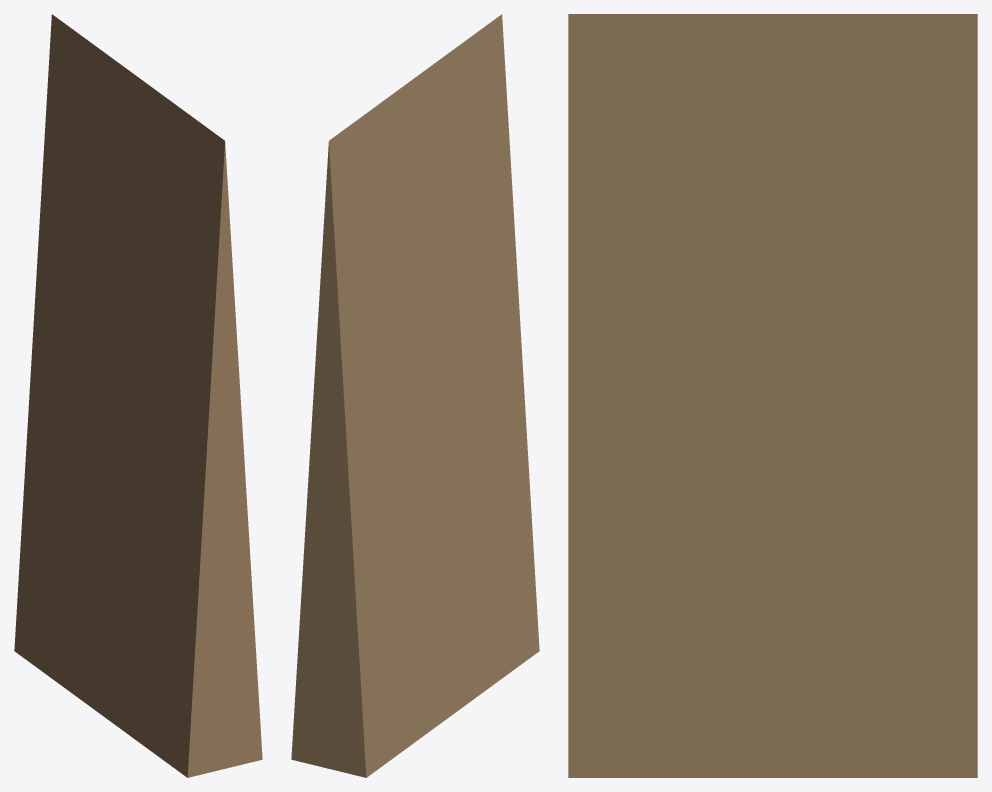
Rendered from prop-joiner-mallet-wedge-jm1.fbx.
3 views of the same model, side by side, from view 1: azimuth 30°, elevation 25°; view 2: azimuth 150°, elevation 25°; view 3: azimuth 270°, elevation 25° (orthographic). The views are drawn at different scales.
Visible parts, largest first — view 1: prop-joiner-mallet-wedge-jm1; view 2: prop-joiner-mallet-wedge-jm1; view 3: prop-joiner-mallet-wedge-jm1.
Boxes of the visible parts, x1,y1,x2,y2 form: prop-joiner-mallet-wedge-jm1: (14, 14, 262, 777); prop-joiner-mallet-wedge-jm1: (291, 14, 539, 777); prop-joiner-mallet-wedge-jm1: (568, 14, 977, 777).
Size of the model in its own units: 0.5 by 4 by 2.
